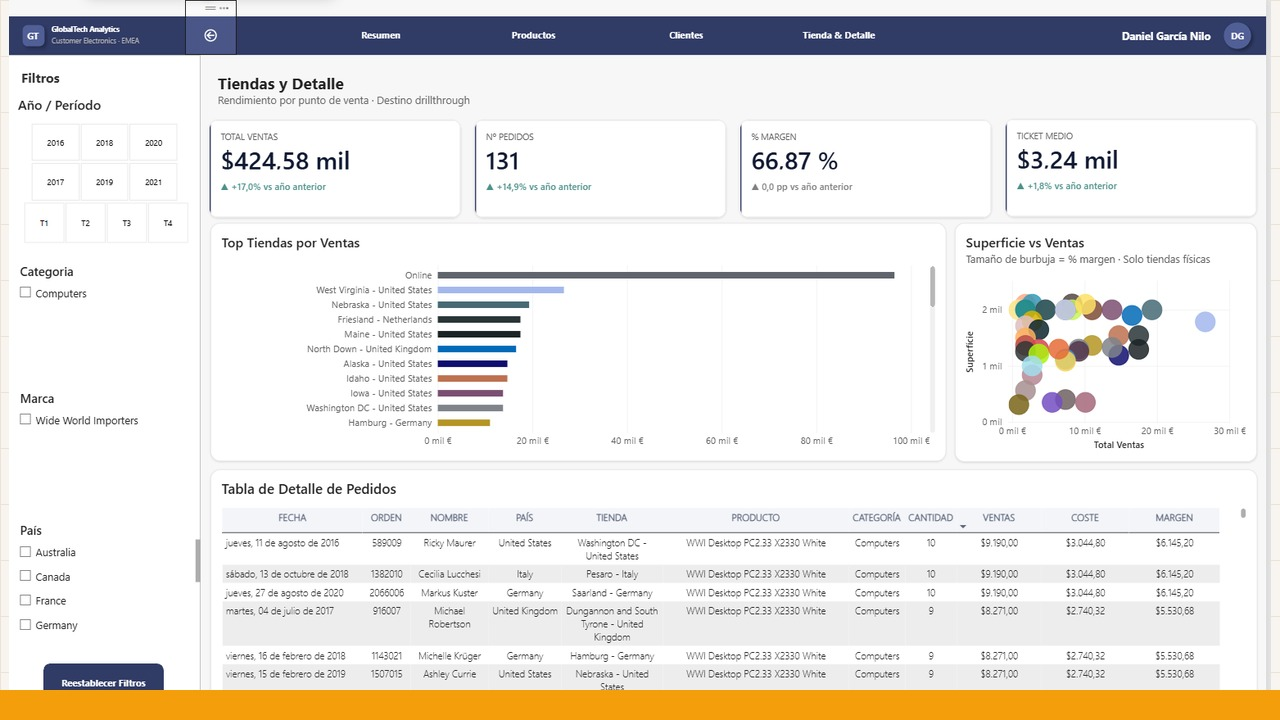

Layout of this report page (visuals, bound fields, positions):
{"tool":"powerbi","page":{"name":"Tienda & Detalle","canvas":[1920,1080],"ordinal":3},"visuals":[{"type":"cardVisual","fields":{"Data":["Medidas.Total_Ventas"]},"box":[306.2,157.5,385,150],"z":0},{"type":"shape","box":[0,0,1920,58.9],"z":1000},{"type":"shape","box":[10.9,2.5,54.8,53.8],"z":2000},{"type":"textbox","box":[23.9,20.7,28.2,18.2],"z":3000},{"type":"textbox","box":[65.8,10,144.1,55.9],"z":4000},{"type":"shape","box":[1846.7,0,60,58.7],"z":5000},{"type":"textbox","box":[1700,18.8,150,22.5],"z":6000},{"type":"shape","title":"Filtros","box":[0,59,293.7,1021],"z":7000},{"type":"actionButton","box":[53.8,987.5,183.8,60],"z":8000},{"type":"slicer","title":"Año / Período","fields":{"Values":["DIM_Calendario.Año"]},"box":[0,120,277.2,162.8],"z":9000},{"type":"slicer","fields":{"Values":["DIM_Calendario.Trimestre"]},"box":[4.3,282.6,289.6,64.8],"z":10000},{"type":"slicer","fields":{"Values":["DIM_Productos.Categoria"]},"box":[0,376.2,293.8,175],"z":11000},{"type":"slicer","fields":{"Values":["DIM_Productos.Marca"]},"box":[0,570,293.8,175],"z":12000},{"type":"slicer","title":"Pais","fields":{"Values":["DIM_Tiendas.PaisTienda"]},"box":[0,771.4,293.8,175],"z":13000},{"type":"cardVisual","fields":{"Data":["Medidas.Num_Pedidos"]},"box":[711.2,157.5,385,150],"z":14000},{"type":"cardVisual","fields":{"Data":["Medidas.Pct_Margen"]},"box":[1116.2,157.8,385,150],"z":15000},{"type":"cardVisual","fields":{"Data":["Medidas.Ticket_Medio"]},"box":[1521.1,156.7,385,150],"z":16000},{"type":"barChart","title":"Top Tiendas por Ventas","fields":{"Category":["DIM_Tiendas.NombreTienda"],"Series":["DIM_Tiendas.NombreTienda"],"Y":["Medidas.Total_Ventas"]},"box":[308.9,315.6,1123.3,364.4],"z":18000},{"type":"tableEx","title":"Tabla de Detalle de Pedidos","fields":{"Values":["FACT_Ventas.FechaPedido","Sum(FACT_Ventas.IdPedido)","DIM_Clientes.Nombre","DIM_Clientes.Pais","DIM_Tiendas.NombreTienda","DIM_Productos.Producto","DIM_Productos.Categoria","Sum(FACT_Ventas.Cantidad)","Medidas.Total_Ventas","Medidas.Total_Coste","Medidas.Margen_Total"]},"box":[308.8,691.2,1597.5,363.8],"z":19000},{"type":"scatterChart","title":"Superficie vs Ventas","fields":{"Series":["DIM_Tiendas.NombreTienda"],"Size":["Medidas.Pct_Margen"],"X":["Medidas.Total_Ventas"],"Y":["DIM_Tiendas.MetrosCuadrados"]},"box":[1445,315,461.2,365],"z":20000},{"type":"textbox","box":[320,85,522,143],"z":23000},{"type":"pageNavigator","box":[472.3,0,895.4,59.2],"z":24000}]}

Visuals, with their boxes on the page's 1920x1080 design canvas (x1, y1, x2, y2). These are canvas units, not pixel positions in the 1280x720 screenshot, which may show the page scaled, cropped or inside an application window:
cardVisual - Medidas.Total_Ventas: detection(306, 158, 691, 308)
shape: detection(0, 0, 1920, 59)
shape: detection(11, 2, 66, 56)
textbox: detection(24, 21, 52, 39)
textbox: detection(66, 10, 210, 66)
shape: detection(1847, 0, 1907, 59)
textbox: detection(1700, 19, 1850, 41)
"Filtros" shape: detection(0, 59, 294, 1080)
actionButton: detection(54, 988, 238, 1048)
"Año / Período" slicer: detection(0, 120, 277, 283)
slicer - DIM_Calendario.Trimestre: detection(4, 283, 294, 347)
slicer - DIM_Productos.Categoria: detection(0, 376, 294, 551)
slicer - DIM_Productos.Marca: detection(0, 570, 294, 745)
"Pais" slicer: detection(0, 771, 294, 946)
cardVisual - Medidas.Num_Pedidos: detection(711, 158, 1096, 308)
cardVisual - Medidas.Pct_Margen: detection(1116, 158, 1501, 308)
cardVisual - Medidas.Ticket_Medio: detection(1521, 157, 1906, 307)
"Top Tiendas por Ventas" barChart: detection(309, 316, 1432, 680)
"Tabla de Detalle de Pedidos" tableEx: detection(309, 691, 1906, 1055)
"Superficie vs Ventas" scatterChart: detection(1445, 315, 1906, 680)
textbox: detection(320, 85, 842, 228)
pageNavigator: detection(472, 0, 1368, 59)
